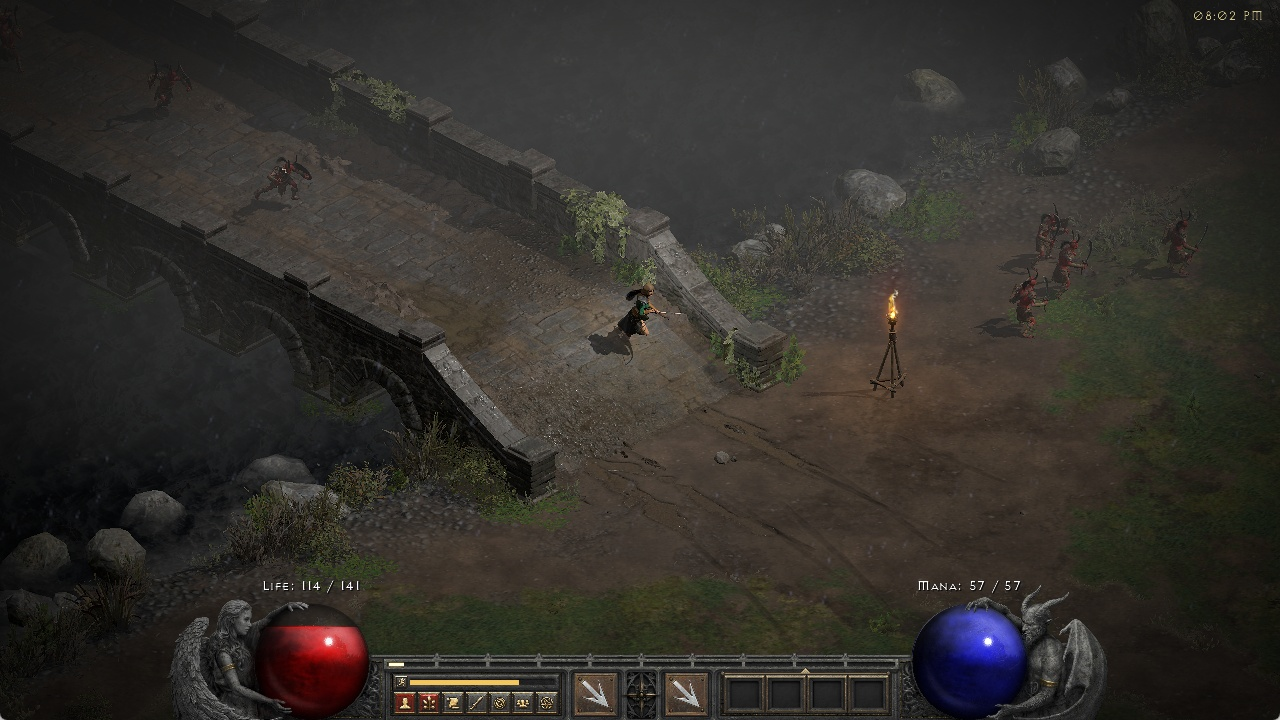fallen: (1166, 205, 1209, 275), (253, 158, 318, 201), (1008, 269, 1048, 338), (146, 60, 192, 111), (1056, 229, 1092, 288), (1025, 206, 1061, 257)
